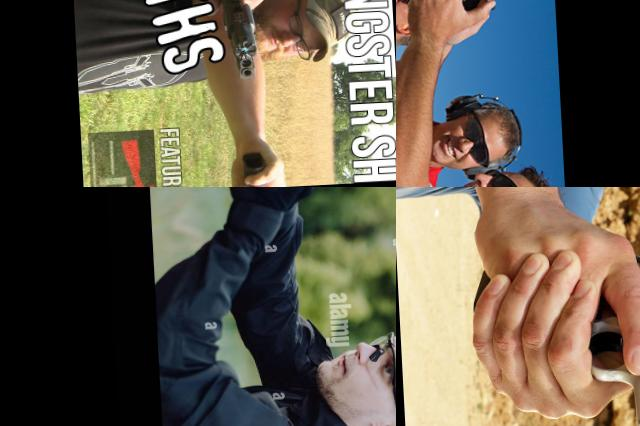handgun: (465, 246, 640, 426), (202, 0, 260, 91), (442, 0, 504, 55), (252, 187, 339, 224), (237, 145, 271, 187), (396, 0, 414, 16), (396, 0, 406, 11)
